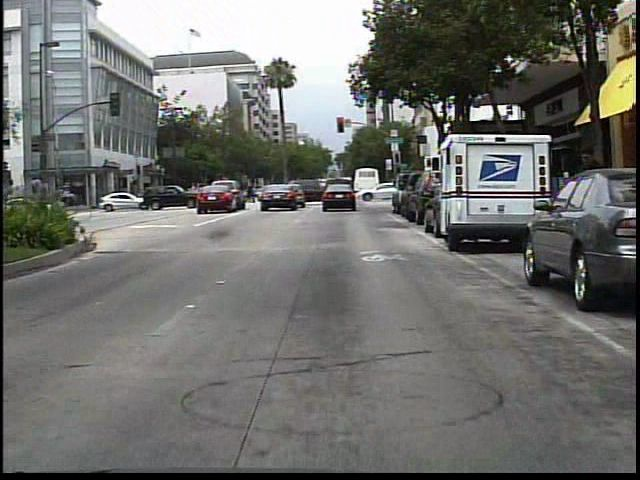person: (572, 144, 611, 265), (248, 179, 259, 205)
